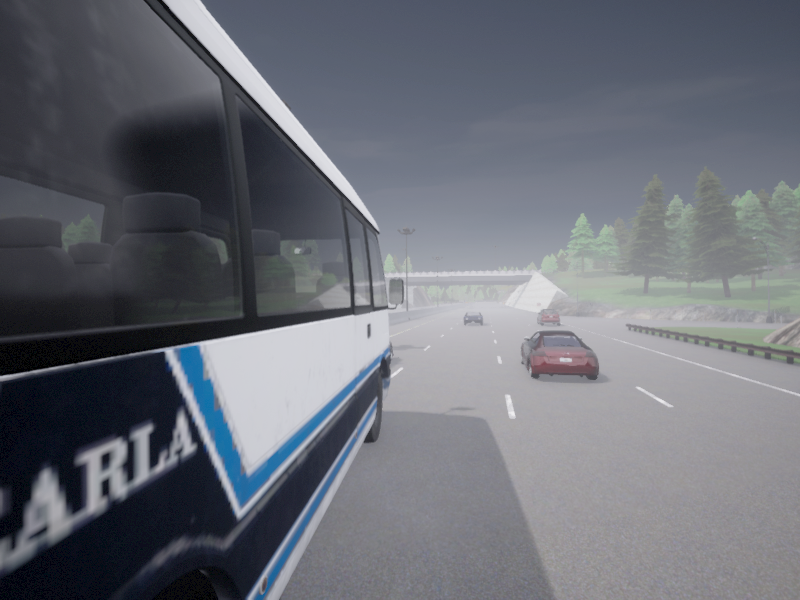vehicle: (0, 0, 403, 599), (520, 330, 598, 379), (537, 309, 559, 325), (463, 312, 482, 324), (390, 341, 393, 360)
